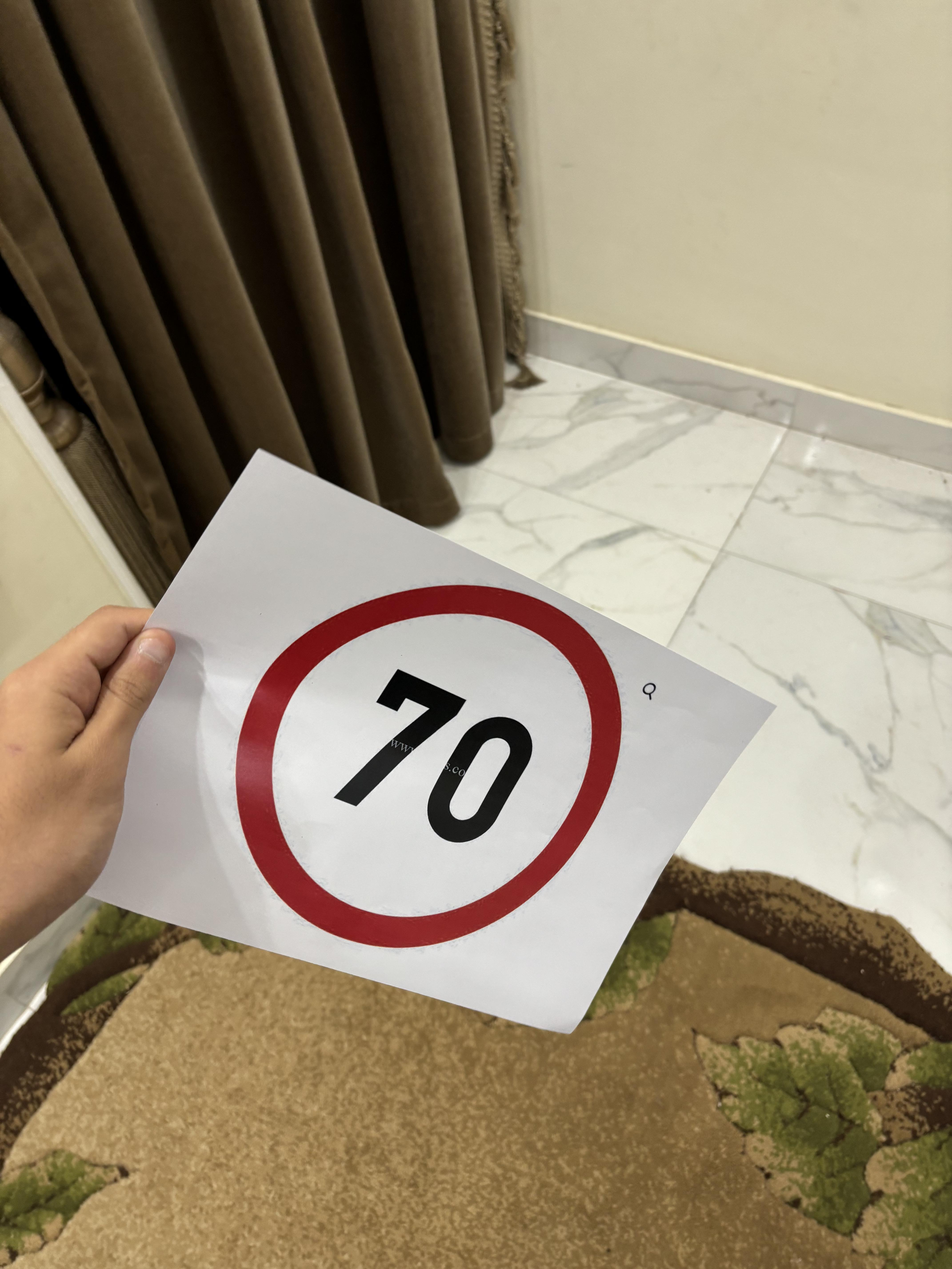70-Speed: (228, 578, 629, 950)
